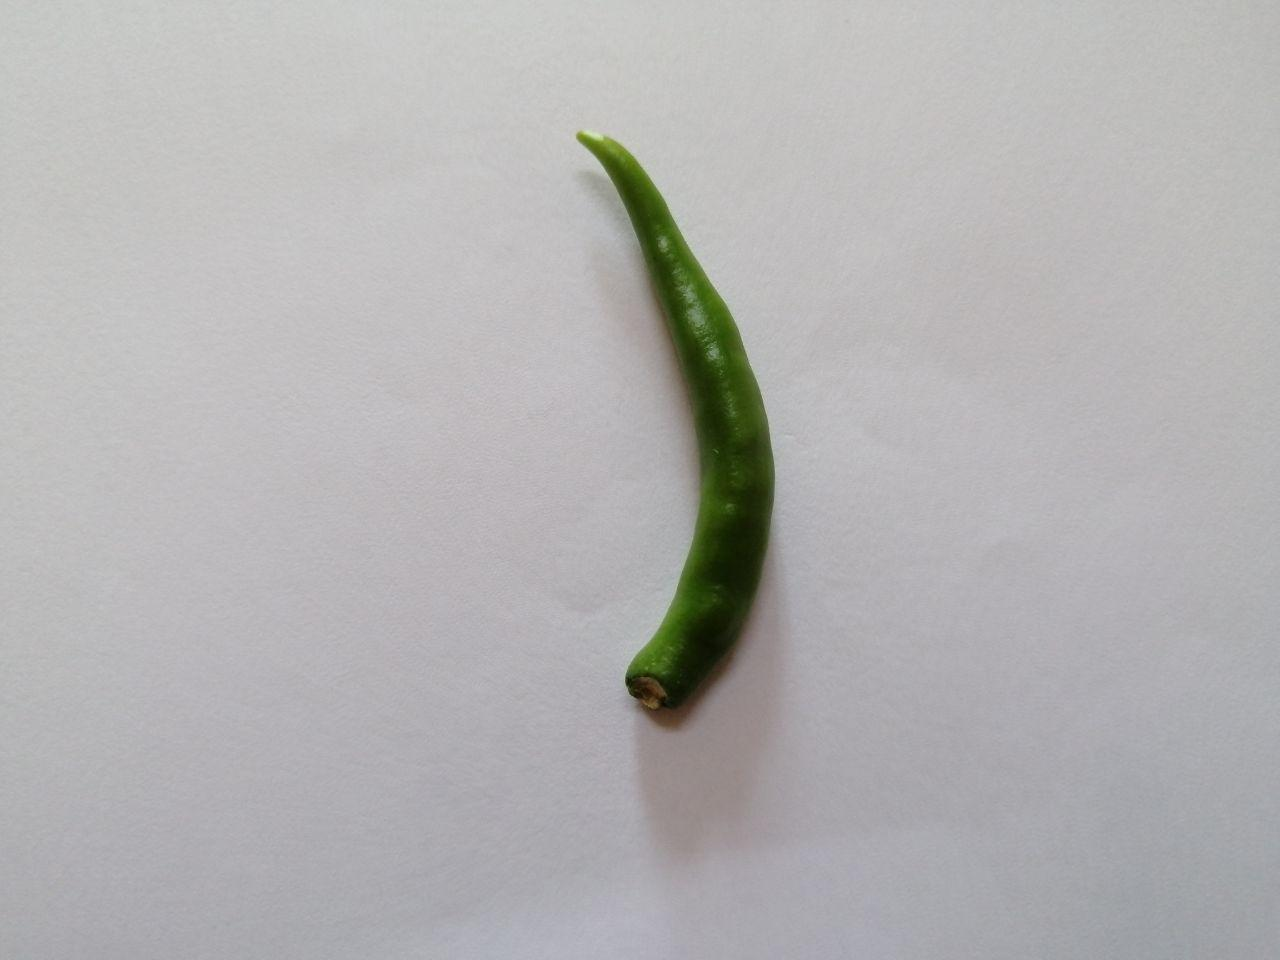lada hijau: (560, 119, 799, 756)
